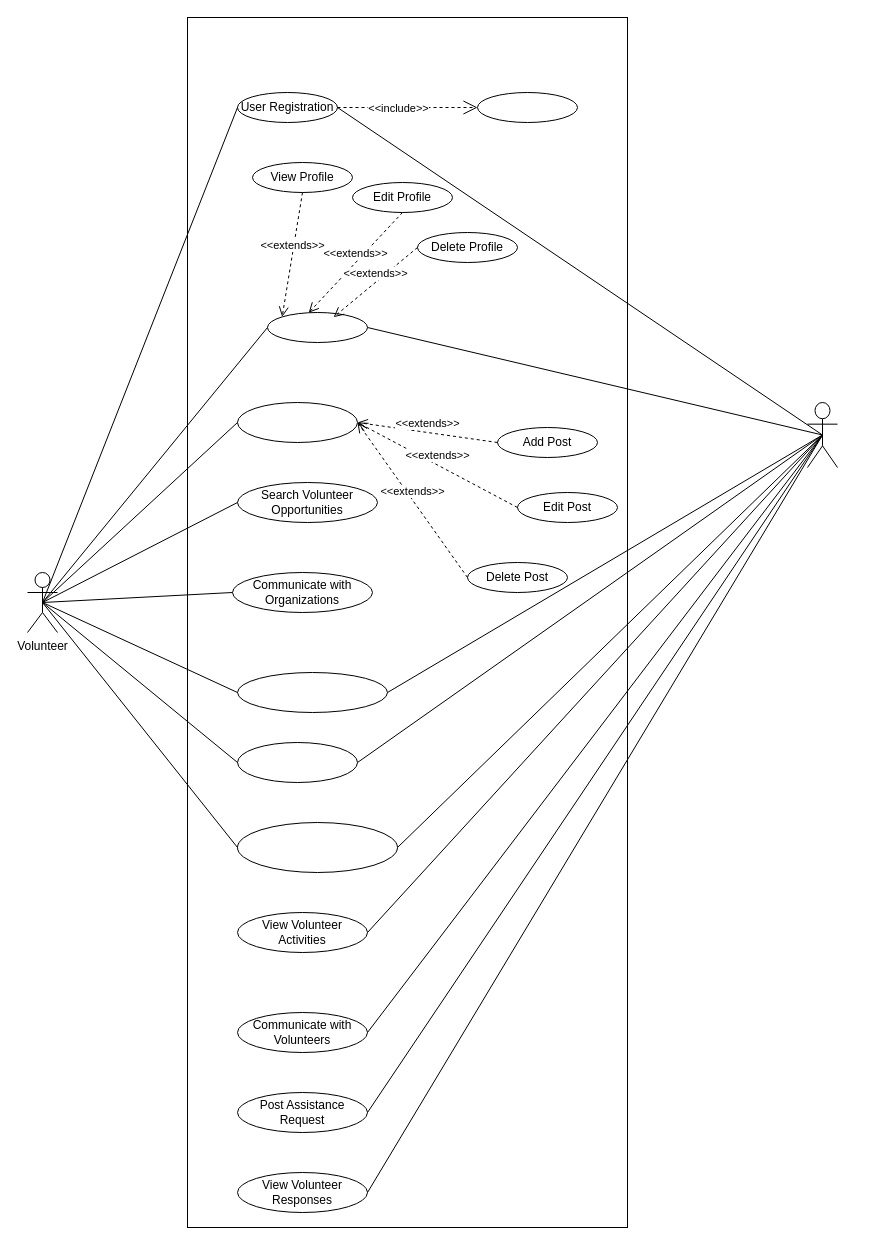
Image size: 874x1245. Some labels were removed from this diagram. The centre of each missing label's shape, as x and y in pixels:
"Create Profile" goes at [317,327].
"Login" goes at [527,107].
"Organization" goes at [822,435].
"Provide Feedback and Ratings" goes at [312,692].
"Receive Notifications" goes at [297,762].
"View Assistance Post" goes at [297,422].
"View Location on Google Map" goes at [317,847].
